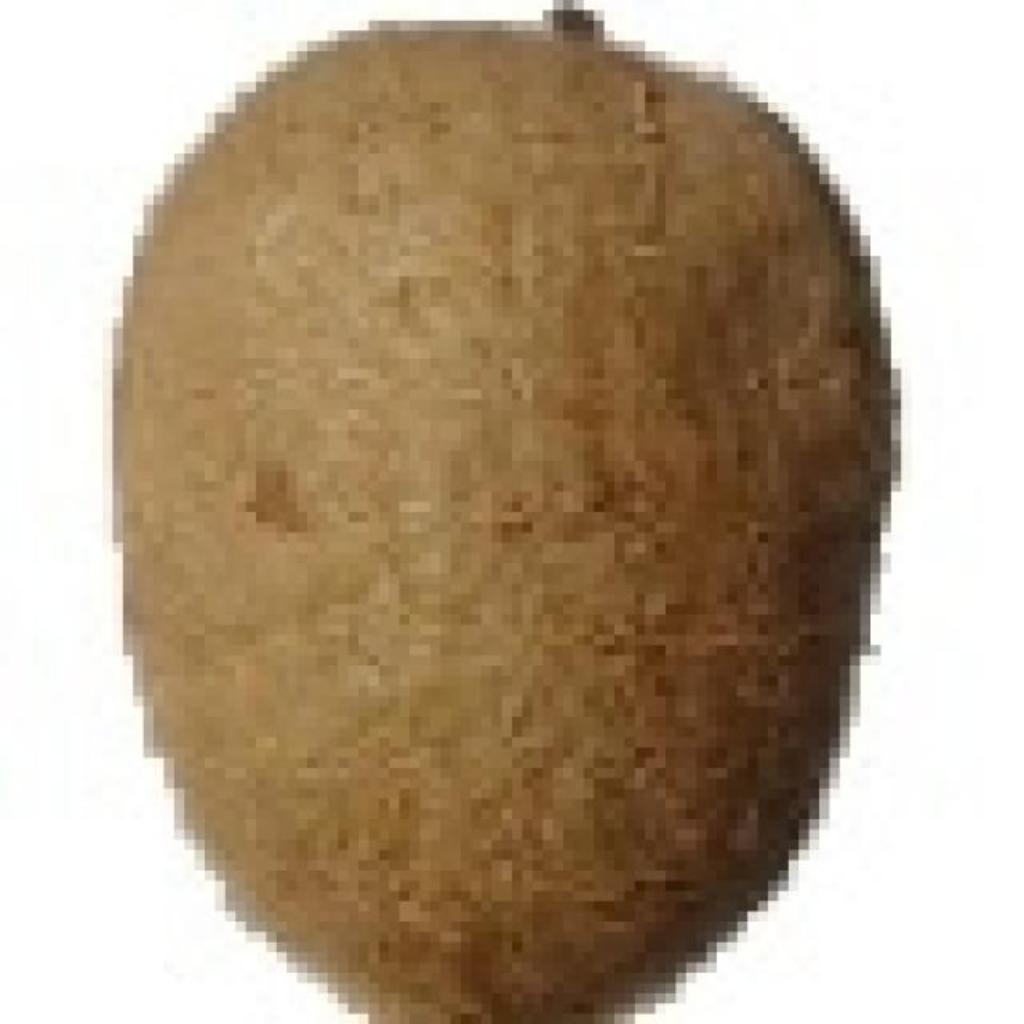kiwi: (113, 0, 870, 1004)
